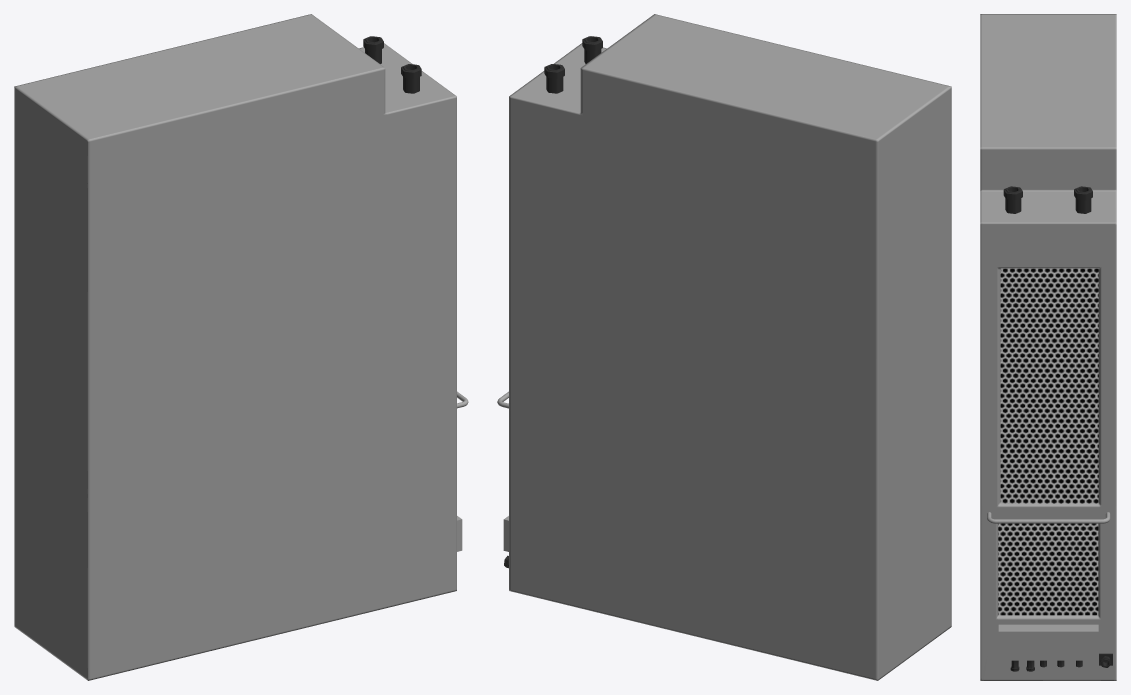
The model's file is Liquid.glb.
3 views of the same model, side by side, from view 1: azimuth 30°, elevation 25°; view 2: azimuth 150°, elevation 25°; view 3: azimuth 270°, elevation 25° (orthographic). The views are drawn at different scales.
Visible parts, largest first — view 1: Liquid; view 2: Liquid; view 3: Liquid.
Boxes of the visible parts, bbox=[...] form: Liquid: bbox=[14, 14, 468, 680]; Liquid: bbox=[497, 14, 951, 680]; Liquid: bbox=[980, 14, 1116, 680].
Size of the model in its own units: 1.06 by 1.41 by 0.3492.
Materials: 3 (1 with a texture image).
